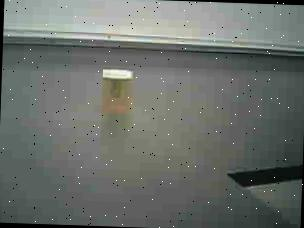Bottle B: (94, 63, 146, 121)
